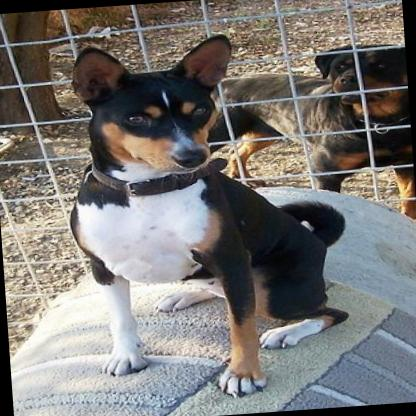basenji: (53, 23, 360, 410)
